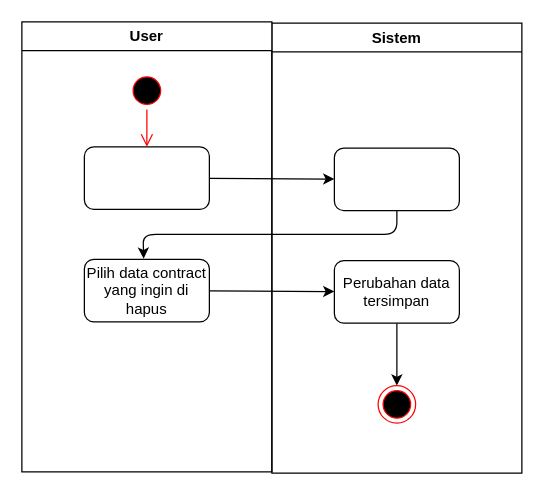
Some shapes in this 544 by 495 pixel diagram are drawn without their labels. The shapes that lost their labels are listed below. From the top down, each one's centre as x and y in pixels, then its label:
At (x=146, y=177): "Membuka halaman contract".
At (x=396, y=179): "Menampilkan halaman PLO".
